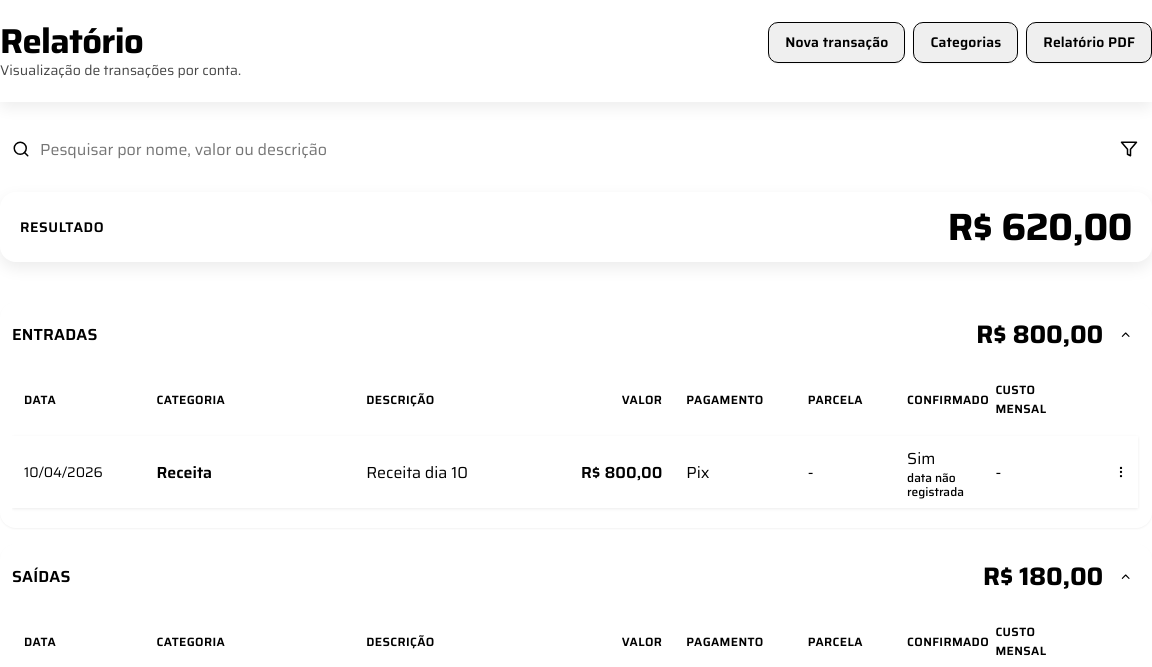
Test: ReportPage - integration - fluxos de futuro › regressao: custo mensal entra no mes filtrado e sai quando o filtro de dia nao bate
Expected: the heading "Saídas" is shown, [12,567,71,586]
Click the button named "abrir filtros" at (1129, 149), box [1106,126,1151,172]
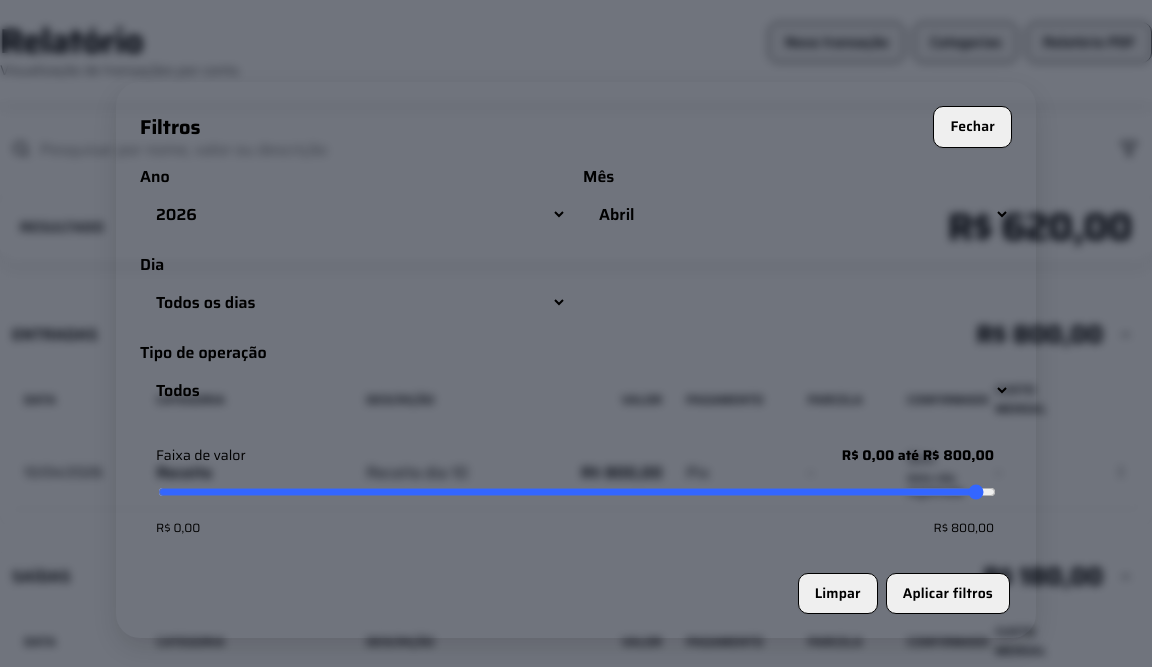
Select "10" in the dropdown labelled "Dia" at (354, 302), box [140,280,567,324]
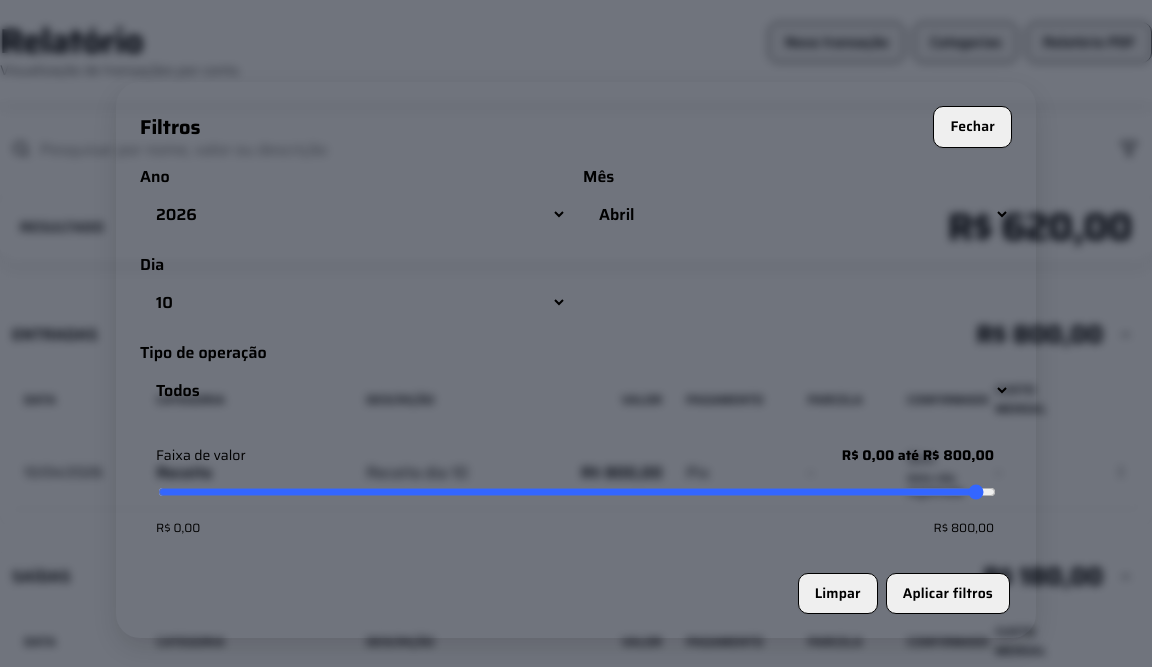
Click the button "Aplicar filtros" at (948, 593), box [886,572,1010,614]
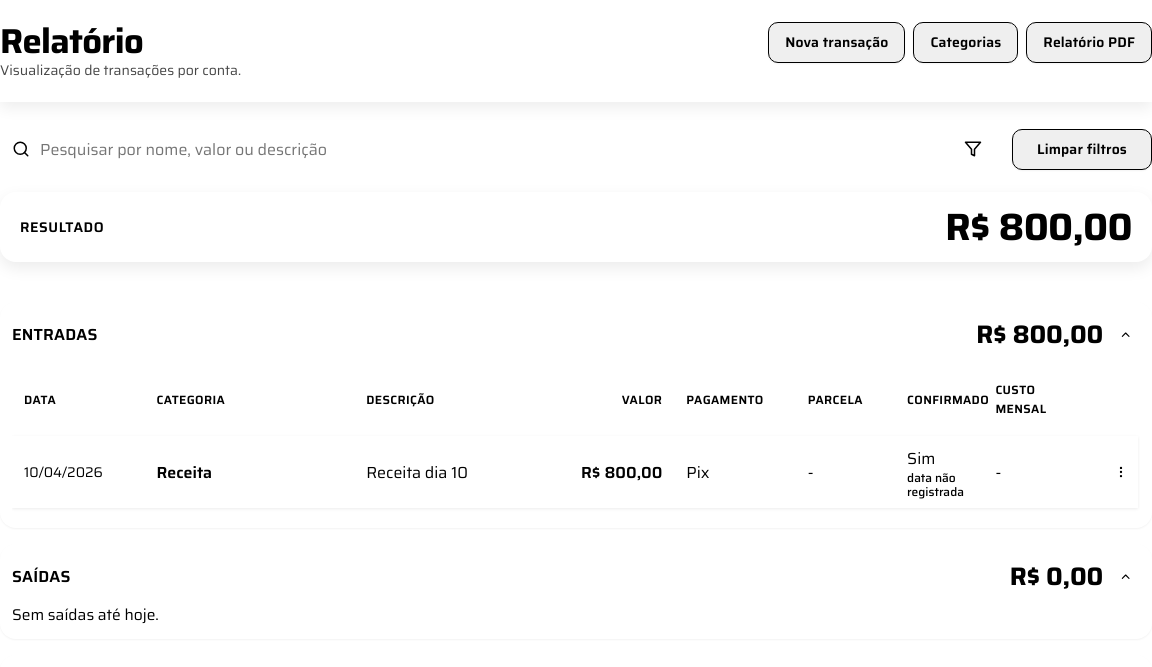
Expected: the text "Sem saídas até hoje." is shown, [12,602,159,627]
